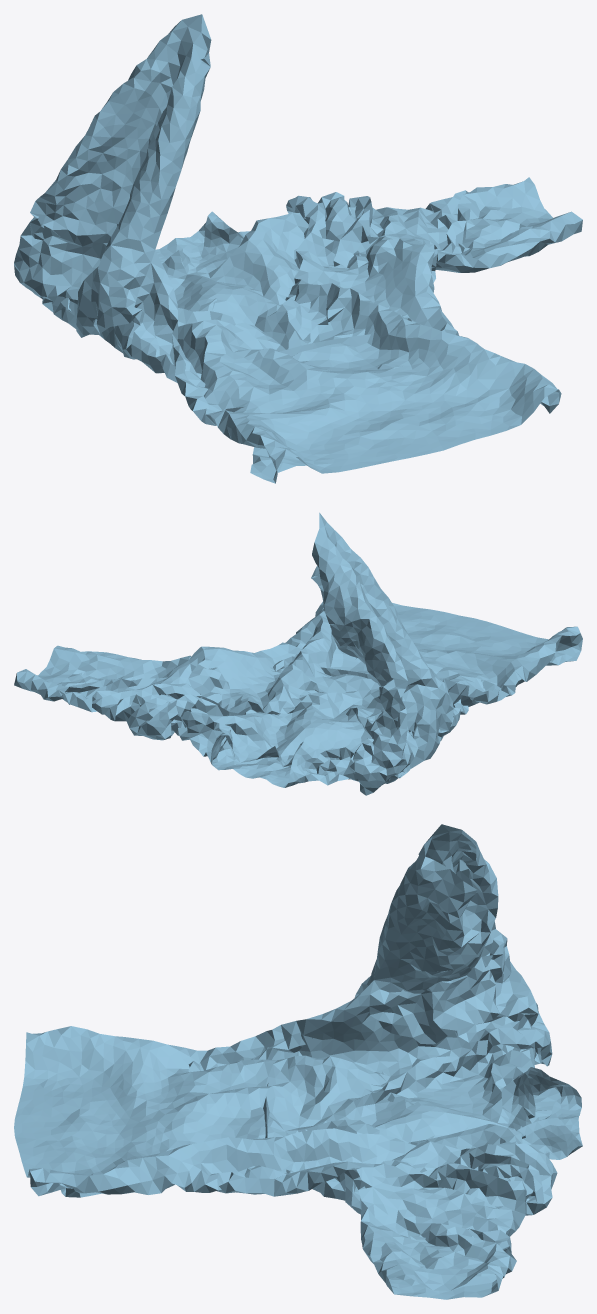
The model's file is frame_13.glb.
3 views of the same model, one above another, from view 1: azimuth 30°, elevation 25°; view 2: azimuth 150°, elevation 25°; view 3: azimuth 270°, elevation 25° (orthographic). The views are drawn at different scales.
Parts seen in each view (by area): view 1: frame_13.obj; view 2: frame_13.obj; view 3: frame_13.obj.
Part boxes in pixels (x1,y1,x2,y2): frame_13.obj: [14, 14, 582, 483]; frame_13.obj: [14, 512, 582, 795]; frame_13.obj: [14, 824, 582, 1299].
Size of the model in its own units: 1.41 by 0.7948 by 1.35.
